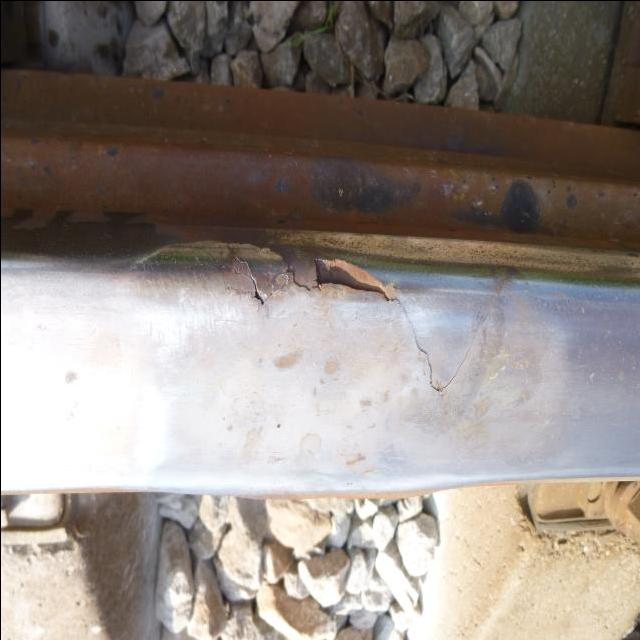broken_rail_medium: (280, 248, 452, 396), (210, 231, 269, 308)
